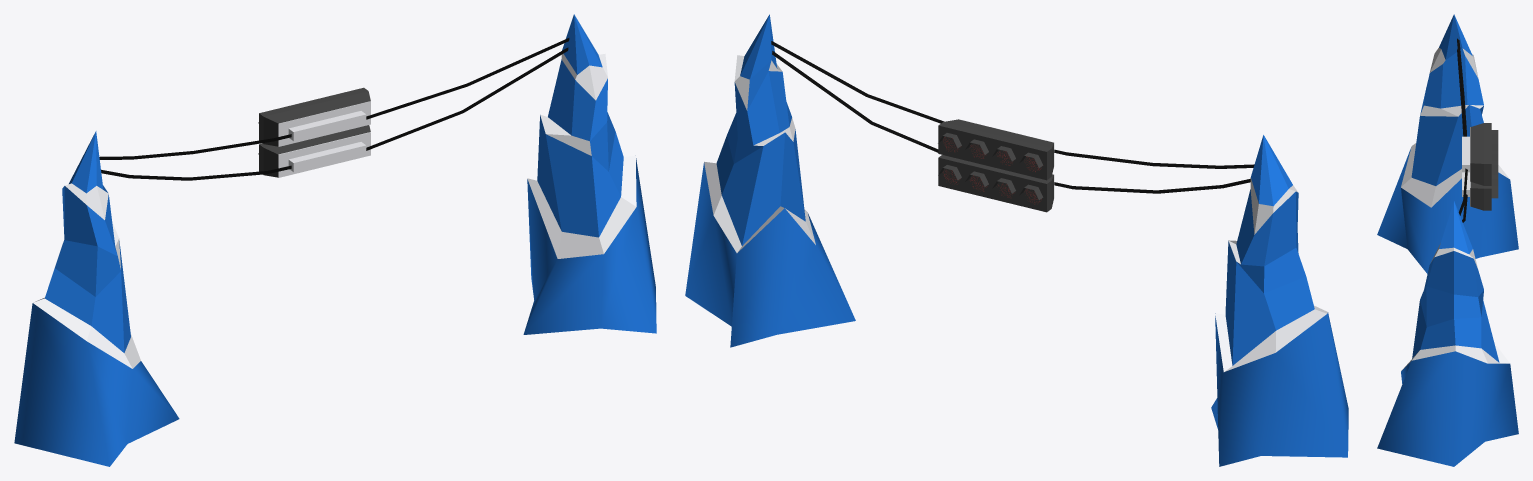
The model's file is overheadLights_2.fbx.
The picture shows the model from 3 angles, left to right: view 1: azimuth 30°, elevation 25°; view 2: azimuth 150°, elevation 25°; view 3: azimuth 270°, elevation 25°; orthographic projection. The views are drawn at different scales.
Visible parts, largest first — view 1: overheadLights_2; view 2: overheadLights_2; view 3: overheadLights_2.
Part boxes in pixels (x1,y1,x2,y2): overheadLights_2: (14,14,656,466); overheadLights_2: (685,14,1348,466); overheadLights_2: (1377,14,1518,466).
Bounding box in the file's own units: 1731 × 414 × 755.
